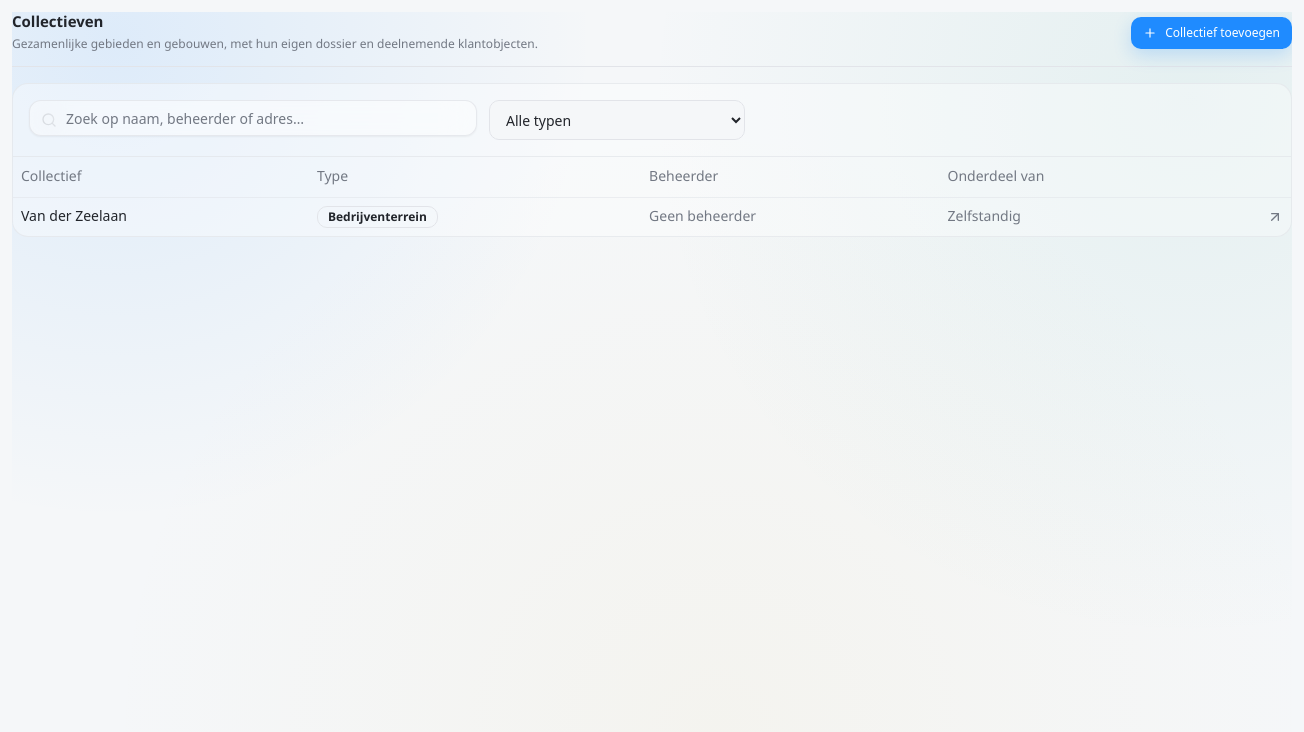
it: collectiefkaart › opent met een doorzoekbare tabel in plaats van oude kaarten
Check: the table named "Collectieven" is shown, box [13, 157, 1291, 236]
Check: the text "Geen beheerder" is shown, box [641, 197, 940, 236]
Type "nietgevonden" into the field named "Zoek collectief". click: (253, 118)
box: [29, 100, 477, 136]
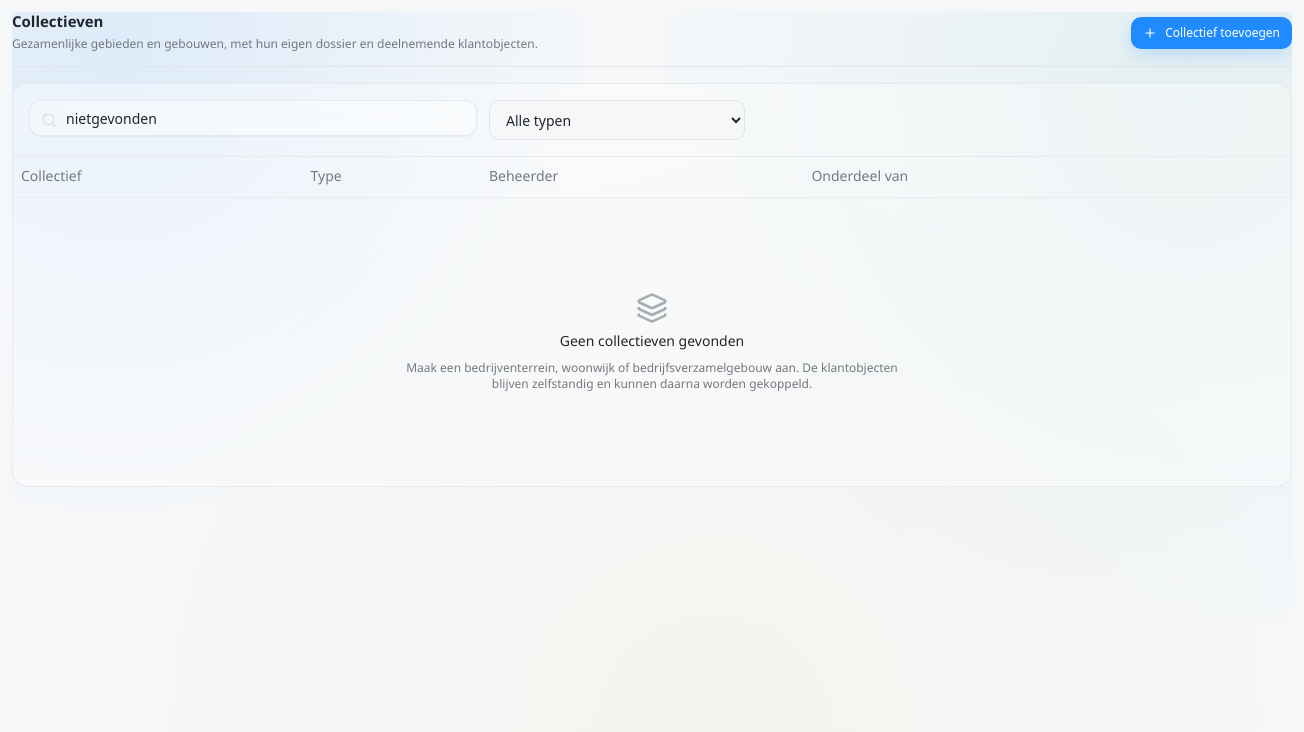
Check: the text "Geen collectieven gevonden" is shown, box [560, 332, 744, 352]
